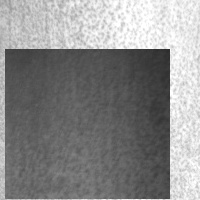pitted_surface: (1, 1, 199, 198), (5, 49, 170, 199)
